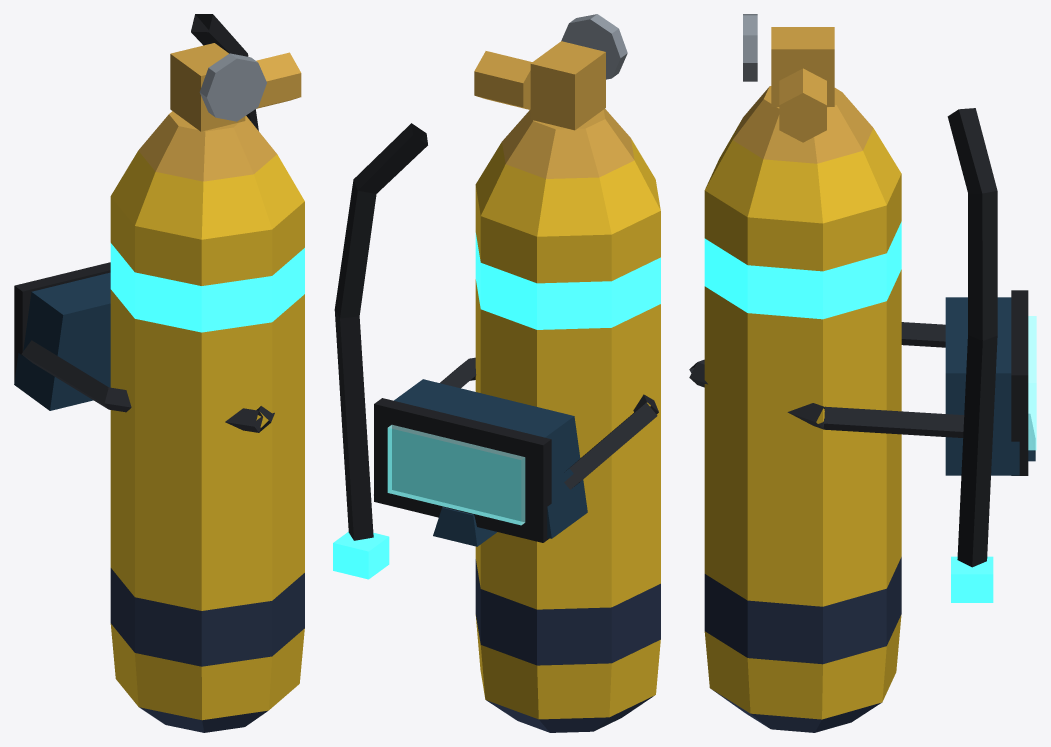
The model's file is scuba_gear.glb.
3 renders of one model, left to right at view 1: azimuth 30°, elevation 25°; view 2: azimuth 150°, elevation 25°; view 3: azimuth 270°, elevation 25°, orthographic. The views are drawn at different scales.
Visible parts, largest first — view 1: Body; view 2: Body; view 3: Body.
Boxes of the visible parts, bbox=[...] form: Body: bbox=[14, 14, 304, 732]; Body: bbox=[333, 14, 660, 732]; Body: bbox=[689, 14, 1036, 732].
Size of the model in its own units: 0.276 by 0.724 by 0.3287.
